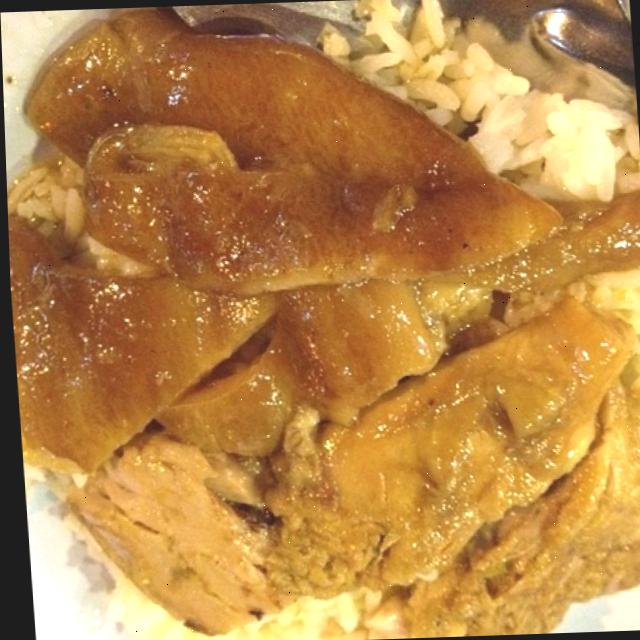猪肉菜式: (1, 35, 640, 640)
